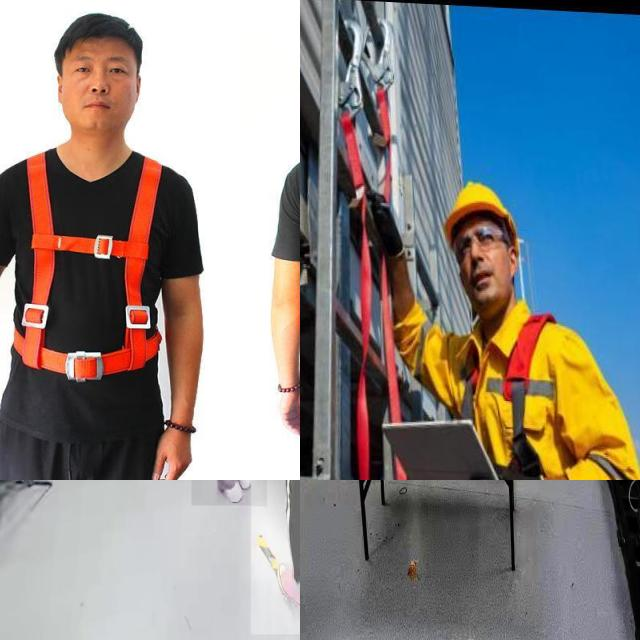Harness: (11, 152, 154, 428), (463, 314, 557, 478)
No_Glasses: (69, 57, 137, 85)
shoes: (274, 560, 300, 613)
